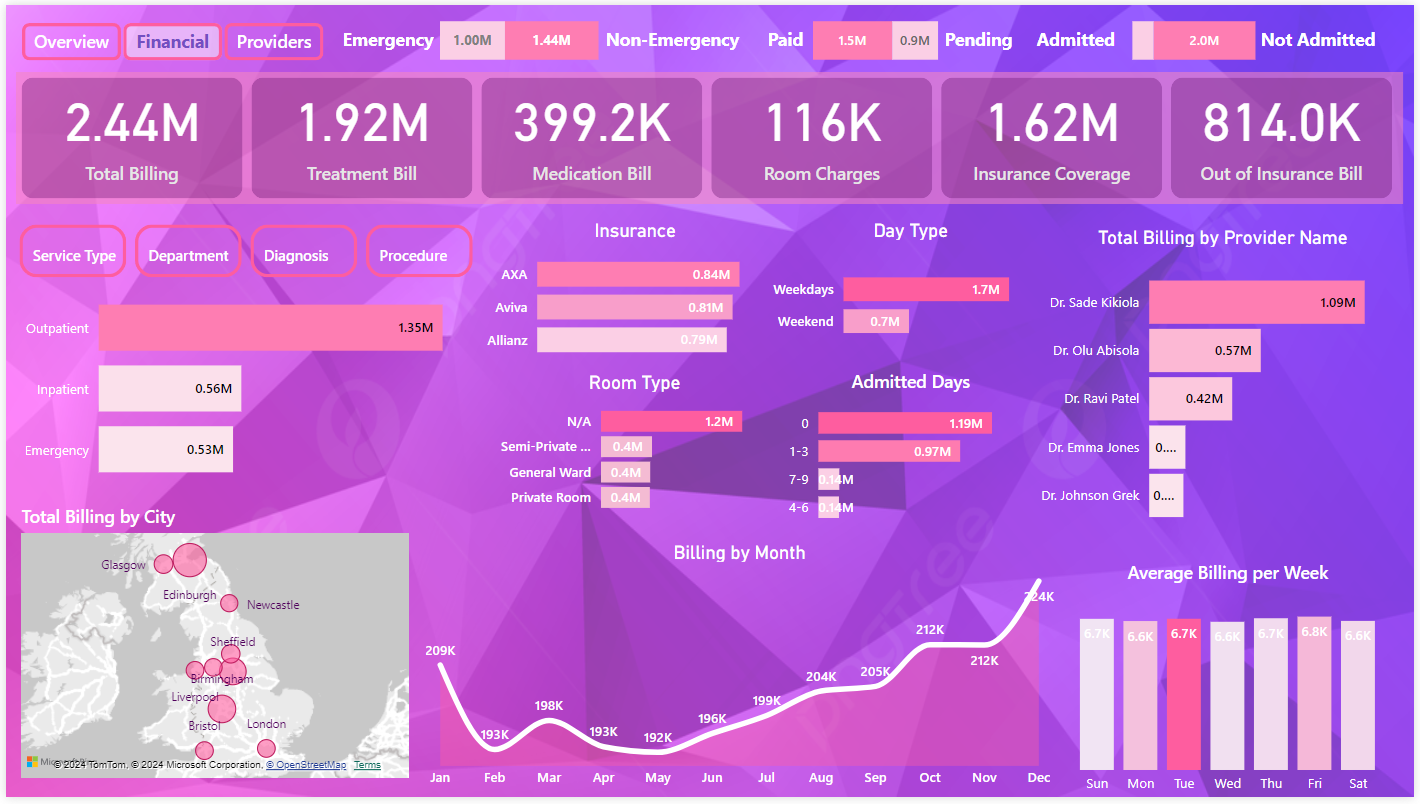

The dashboard page shown, as its layout file describes it:
{"tool":"powerbi","page":{"name":"Financial","canvas":[1280,720],"ordinal":1},"visuals":[{"type":"cardVisual","fields":{"Data":["_All Measures.Overall Bill","_All Measures.Total Treatment Bill","_All Measures.Total Medication Bill","_All Measures.Room Charges","_All Measures.Insurance Coverage","_All Measures.Out of Insurance Bill"]},"box":[8.8,60.6,1261.3,120.1],"z":0},{"type":"advancedSlicerVisual","fields":{"Values":["Total Visit By.Visit By"]},"box":[7.7,195,423,58.4],"z":1000},{"type":"barChart","fields":{"Category":["procedures.Procedure"],"Y":["_All Measures.Total Billing"]},"box":[7.7,236.8,431.8,217],"z":2000},{"type":"lineChart","title":"Billing by Month","fields":{"Y":["_All Measures.Total Billing"],"Category":["Calendar.MonthShort"]},"box":[370.1,477,593.7,243.4],"z":3000},{"type":"map","fields":{"Category":["cities.City"],"Size":["_All Measures.Total Billing"]},"box":[9,453.5,361.7,254.2],"z":4000},{"type":"columnChart","title":"Average Billing per Week","fields":{"Category":["Calendar.WeekName"],"Y":["_All Measures.Avg Billing Per DayWeek"]},"box":[955,504.5,310.6,215.9],"z":5000},{"type":"barChart","fields":{"Series":["visits_good.Emergency Visit"],"Y":["_All Measures.Total Billing"]},"box":[394.4,0,177.3,70.5],"z":6000},{"type":"textbox","box":[300.7,15.4,105.7,39.7],"z":7000},{"type":"textbox","box":[539.8,15.4,147.6,39.7],"z":8000},{"type":"pageNavigator","box":[14.7,16.6,275.5,34.1],"z":9000},{"type":"clusteredBarChart","title":"Day Type","fields":{"Category":["Calendar.Weekend?"],"Y":["_All Measures.Total Billing"]},"box":[696.2,194.6,252.3,141],"z":10000},{"type":"barChart","fields":{"Y":["_All Measures.Total Billing"],"Series":["visits_good.Payment Status"]},"box":[733.6,0,139.9,70.5],"z":11000},{"type":"textbox","box":[848.2,15.4,91.4,40.8],"z":12000},{"type":"textbox","box":[687.4,15.4,71.6,35.2],"z":13000},{"type":"barChart","fields":{"Y":["_All Measures.Total Billing"],"Category":["providers.Provider Name"]},"box":[927.2,200.5,352.8,287.8],"z":14000},{"type":"barChart","title":"Room Type","fields":{"Category":["visits_good.Room Type"],"Y":["_All Measures.Total Billing"]},"box":[430.7,332.7,280.9,144.3],"z":15000},{"type":"barChart","title":"Insurance","fields":{"Category":["insurance.Insurance Provider"],"Y":["_All Measures.Total Billing"]},"box":[430.7,194.6,282,144.3],"z":16000},{"type":"barChart","fields":{"Y":["_All Measures.Total Billing"],"Series":["visits_good.Admitted?"]},"box":[998,0,137.7,70.5],"z":17000},{"type":"textbox","box":[1135.7,15.4,130,40.8],"z":18000},{"type":"textbox","box":[931.9,15.4,93.6,35.2],"z":19000},{"type":"barChart","title":"Admitted Days","fields":{"Category":["visits_good.Total Admission Days (groups)"],"Y":["_All Measures.Total Billing"]},"box":[705,330.5,235.7,146.5],"z":20000}]}

Visuals, with their boxes in screenshot pixels (x1, y1, x2, y2), scaled from the page's 1280x720 canvas onto the 1420x804 screenshot:
cardVisual - _All Measures.Overall Bill x _All Measures.Total Treatment Bill: (10, 68, 1409, 202)
advancedSlicerVisual - Total Visit By.Visit By: (9, 218, 478, 283)
barChart - procedures.Procedure x _All Measures.Total Billing: (9, 264, 488, 507)
"Billing by Month" lineChart: (411, 533, 1069, 803)
map - cities.City x _All Measures.Total Billing: (10, 506, 411, 790)
"Average Billing per Week" columnChart: (1059, 563, 1404, 803)
barChart - visits_good.Emergency Visit x _All Measures.Total Billing: (438, 0, 634, 79)
textbox: (334, 17, 451, 62)
textbox: (599, 17, 763, 62)
pageNavigator: (16, 19, 322, 57)
"Day Type" clusteredBarChart: (772, 217, 1052, 375)
barChart - _All Measures.Total Billing x visits_good.Payment Status: (814, 0, 969, 79)
textbox: (941, 17, 1042, 63)
textbox: (763, 17, 842, 57)
barChart - _All Measures.Total Billing x providers.Provider Name: (1029, 224, 1419, 545)
"Room Type" barChart: (478, 372, 789, 533)
"Insurance" barChart: (478, 217, 791, 378)
barChart - _All Measures.Total Billing x visits_good.Admitted?: (1107, 0, 1260, 79)
textbox: (1260, 17, 1404, 63)
textbox: (1034, 17, 1138, 57)
"Admitted Days" barChart: (782, 369, 1044, 533)
